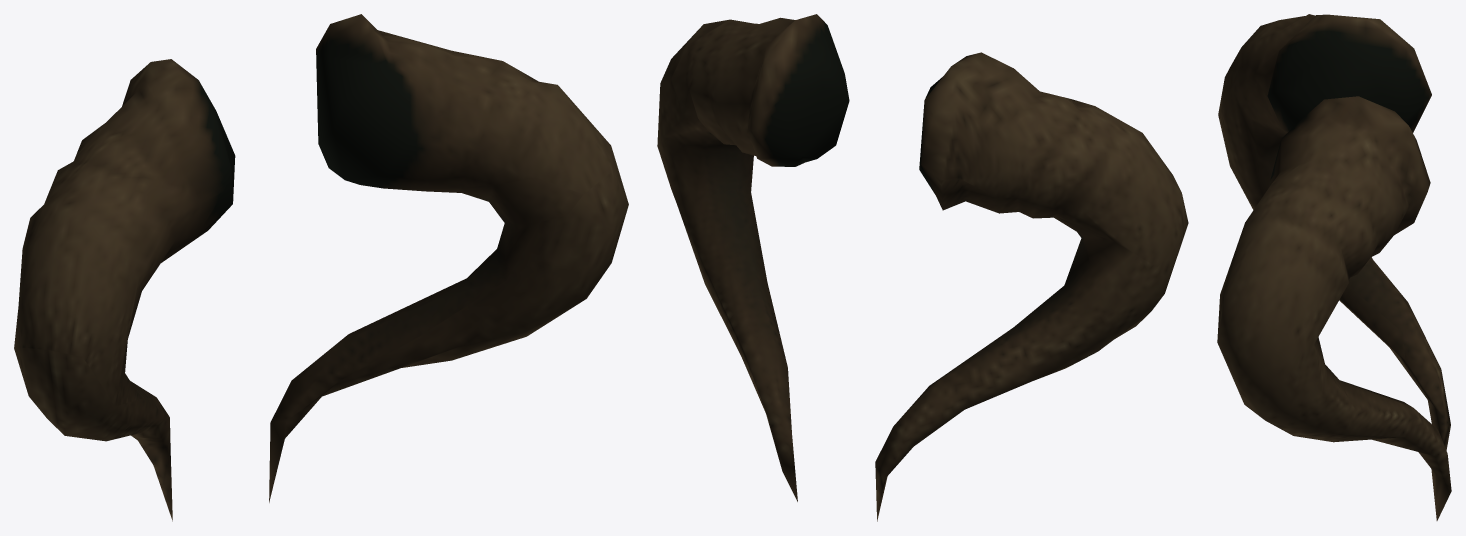
Rendered from boid2horns.obj.
3 renders of one model, left to right at view 1: azimuth 30°, elevation 25°; view 2: azimuth 150°, elevation 25°; view 3: azimuth 270°, elevation 25°, orthographic. The views are drawn at different scales.
Visible parts, largest first — view 1: boid2horns; view 2: boid2horns; view 3: boid2horns.
Boxes of the visible parts, x1,y1,x2,y2 form: boid2horns: (14,14,628,521); boid2horns: (657,14,1188,521); boid2horns: (1217,14,1451,520).
Size of the model in its own units: 2.05 by 1.68 by 0.8009.
